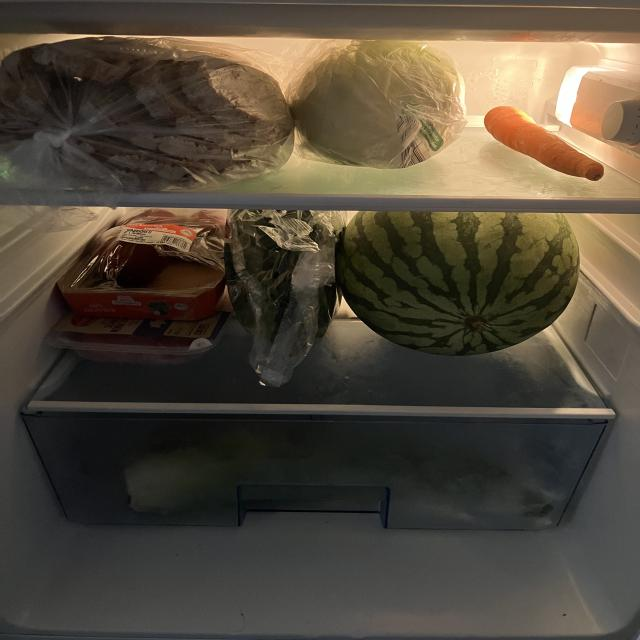Apples: (78, 206, 214, 312)
Meat: (48, 306, 219, 362)
Vegetable: (226, 199, 332, 396)
Watermelon: (324, 202, 608, 371)
bread: (5, 42, 288, 187)
cabbage: (292, 34, 464, 172)
carrot: (479, 93, 627, 194)
